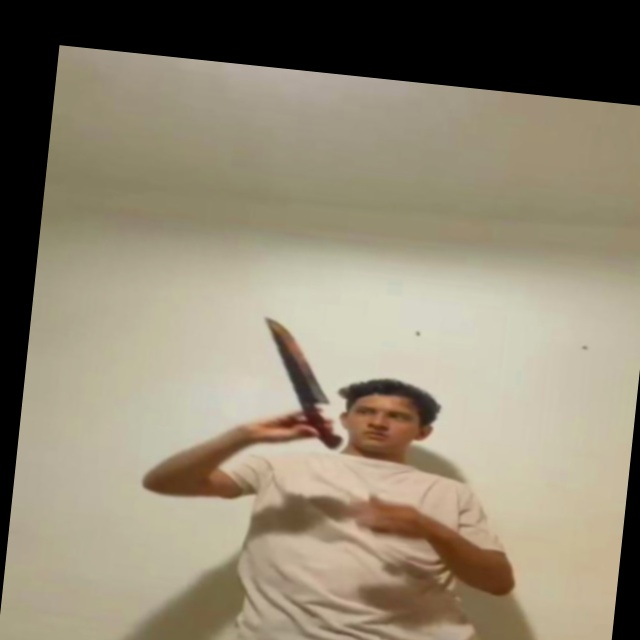Sharp-Object: (255, 318, 342, 412)
